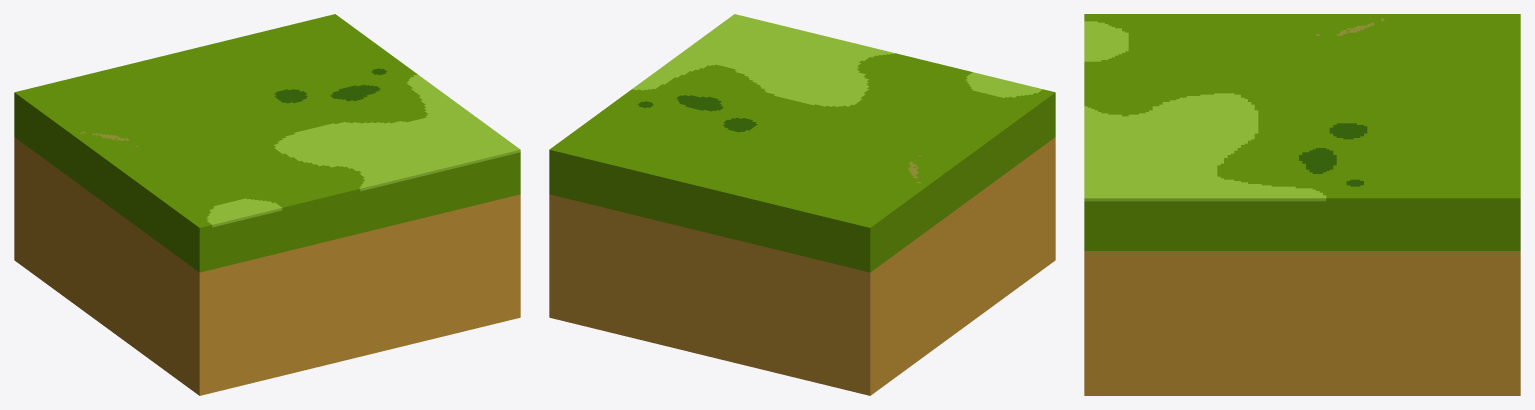
The picture shows the model from 3 angles, left to right: view 1: azimuth 30°, elevation 25°; view 2: azimuth 150°, elevation 25°; view 3: azimuth 270°, elevation 25°; orthographic projection. The views are drawn at different scales.
Parts seen in each view (by area): view 1: 11E; view 2: 11E; view 3: 11E.
Boxes of the visible parts, x1,y1,x2,y2 form: 11E: (14,14,520,395); 11E: (549,14,1055,395); 11E: (1084,14,1520,395).
Size of the model in its own units: 12.8 by 6.4 by 12.8.
Materials: 1 (1 with a texture image).
